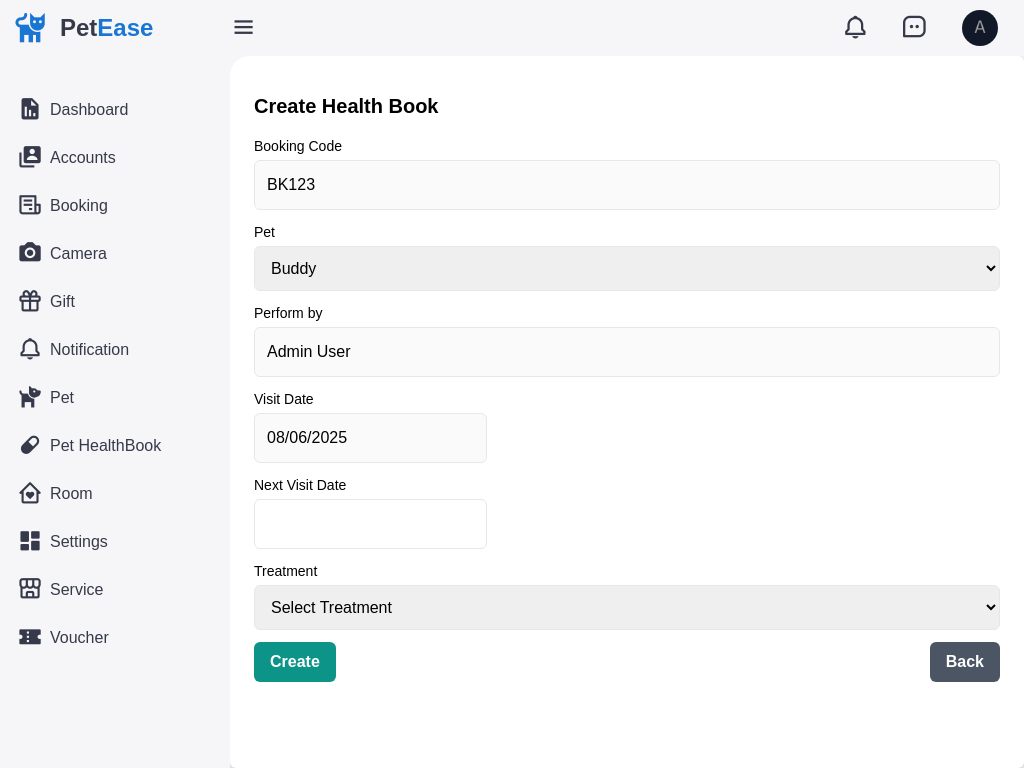
Scenario: Pet Health Book Edit Page › should show medicines options based on selected treatment
Select "Treatment One" in the dropdown below "Treatment" at [627, 608], box [254, 585, 1000, 630]
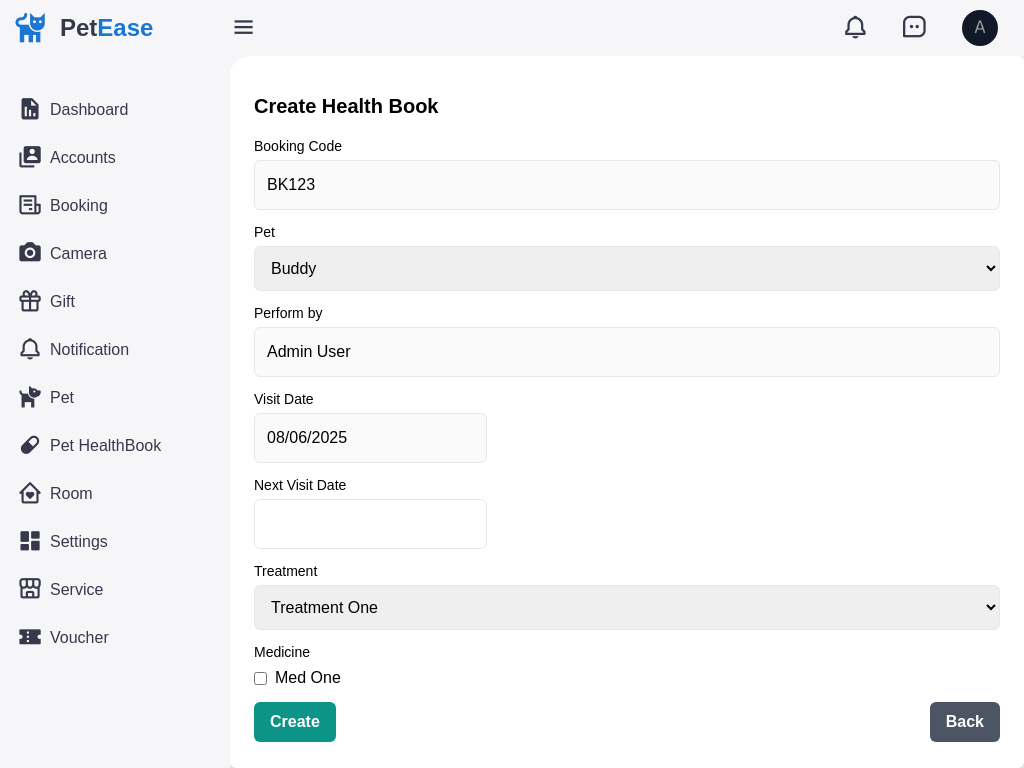
Check: the text "Med One" is shown, box [275, 666, 341, 690]
